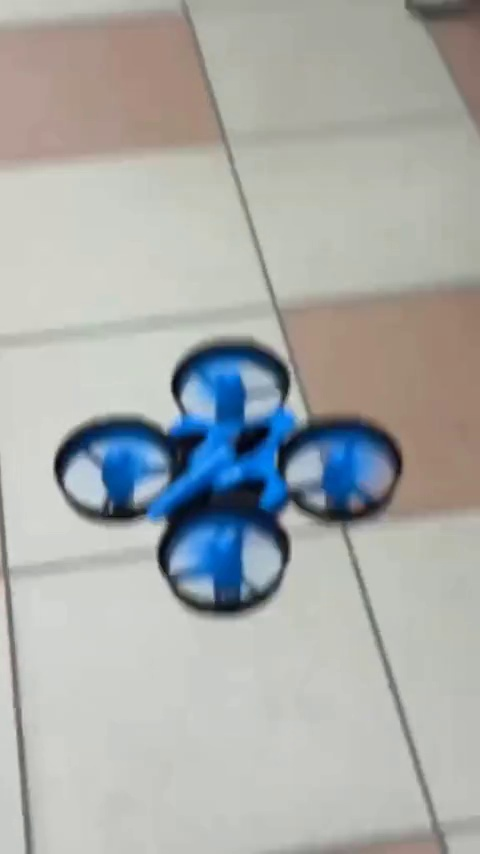drone: (50, 339, 402, 619)
